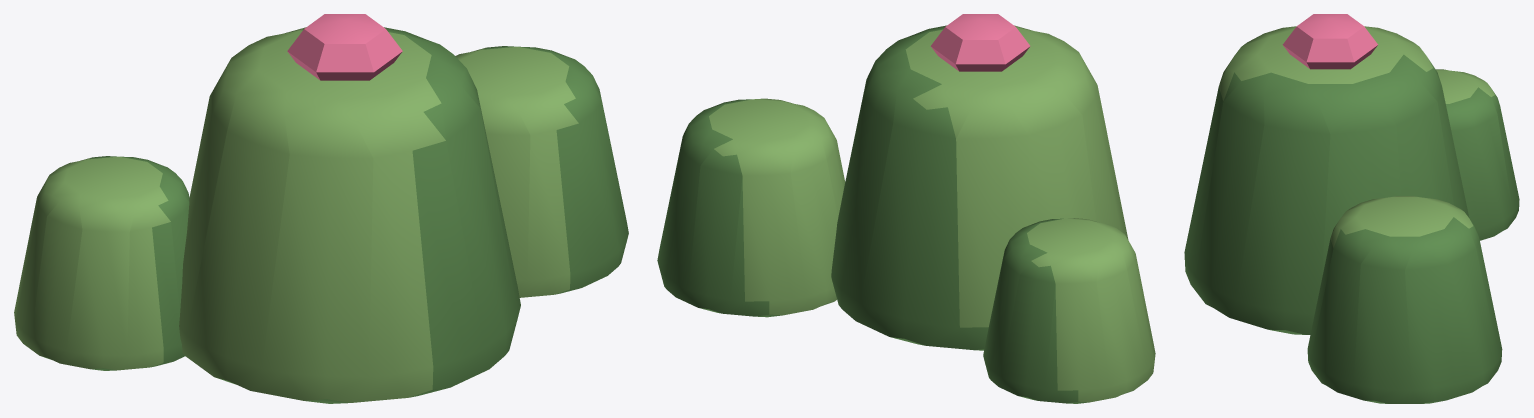
The model's file is Cactus_B.fbx.
3 views of the same model, side by side, from view 1: azimuth 30°, elevation 25°; view 2: azimuth 150°, elevation 25°; view 3: azimuth 270°, elevation 25° (orthographic). The views are drawn at different scales.
Parts seen in each view (by area): view 1: Cactus_B; view 2: Cactus_B; view 3: Cactus_B.
Boxes of the visible parts, x1,y1,x2,y2 form: Cactus_B: (14, 14, 628, 403); Cactus_B: (657, 14, 1155, 403); Cactus_B: (1184, 14, 1519, 403).
Size of the model in its own units: 1.02 by 0.554 by 0.6301.
